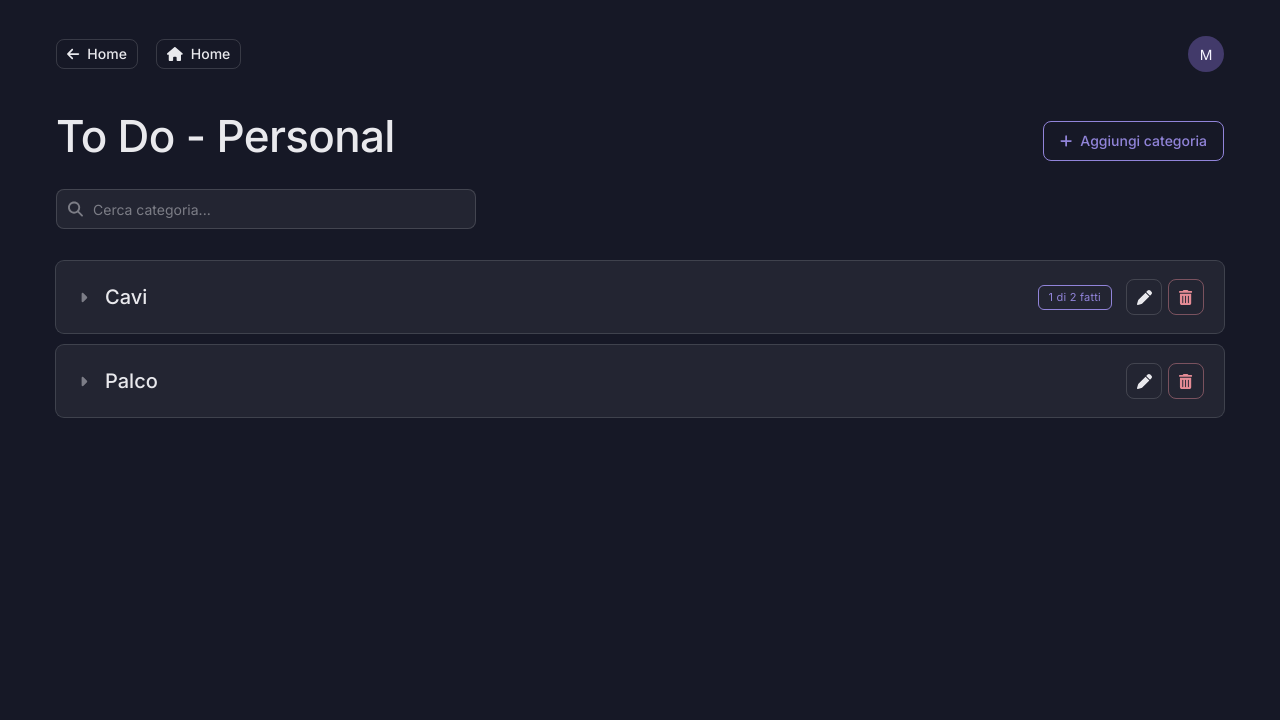
Test case: CategoryListPage › elimina una categoria dopo conferma
This screenshot has width=1280, height=720.
Click the button named "Elimina categoria Palco": (1186, 381) x1=1168 y1=363 x2=1204 y2=399
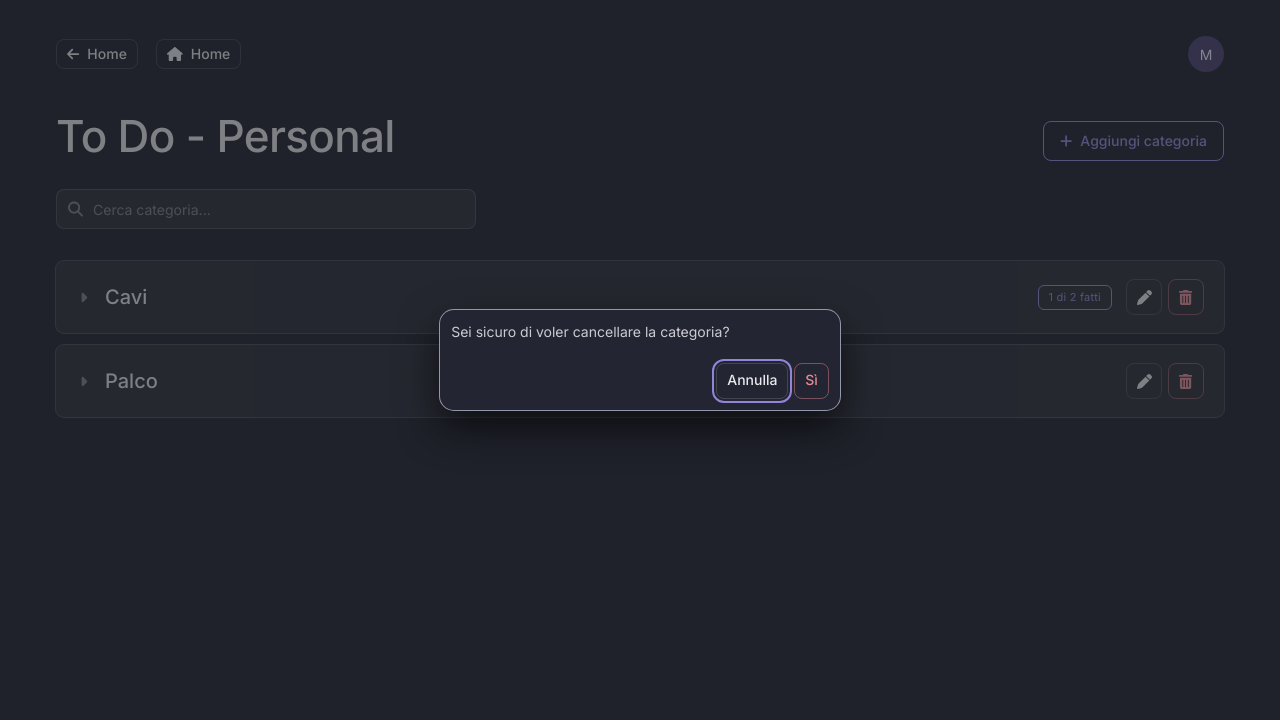
Click the button "Sì": (811, 381) x1=794 y1=363 x2=829 y2=399
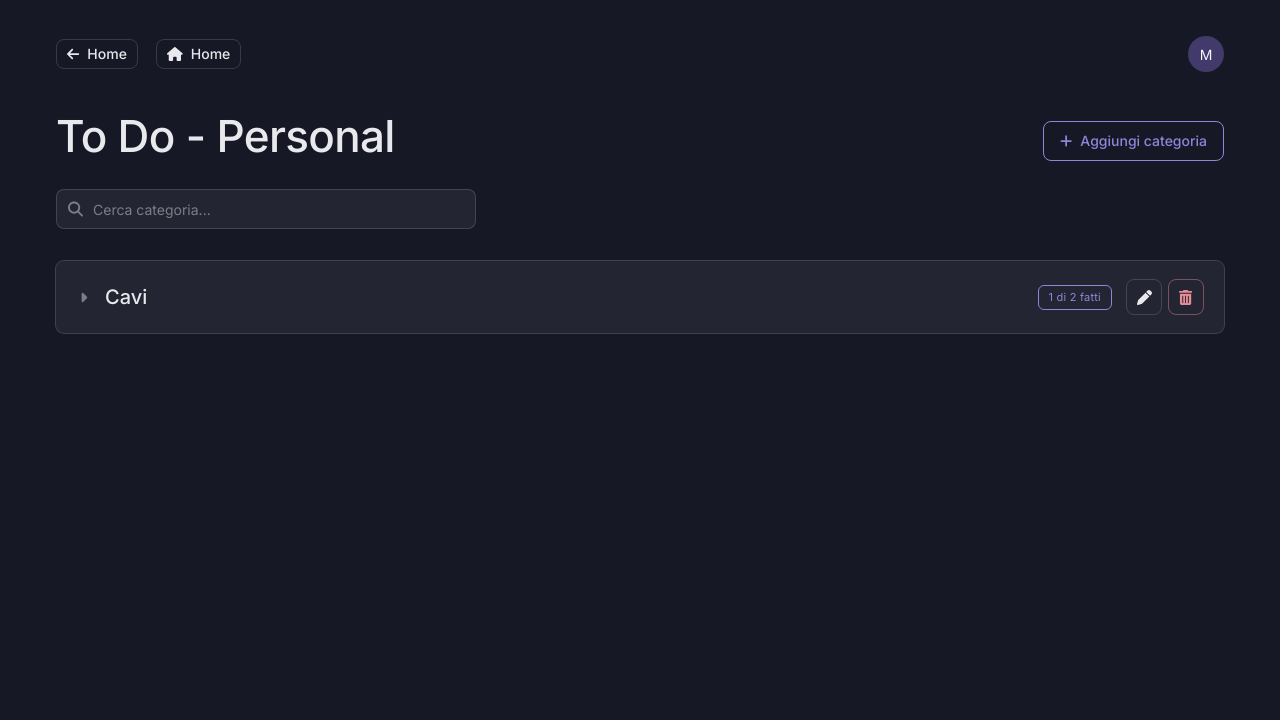
Now the button "Palco" is gone
